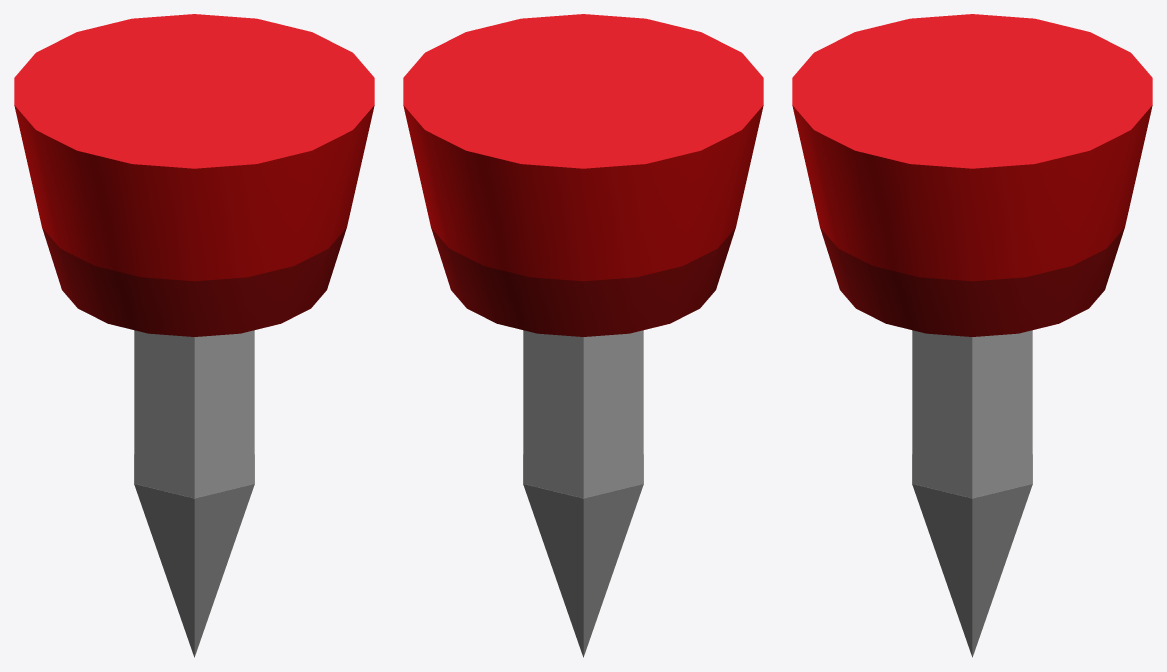
Rendered from tachinha.DAE.
The picture shows the model from 3 angles, left to right: view 1: azimuth 30°, elevation 25°; view 2: azimuth 150°, elevation 25°; view 3: azimuth 270°, elevation 25°; orthographic projection.
Visible parts, largest first — view 1: Cylinder01, Cone01; view 2: Cylinder01, Cone01; view 3: Cylinder01, Cone01.
Boxes of the visible parts, bbox=[...] form: Cylinder01: bbox=[14, 14, 374, 336]; Cone01: bbox=[134, 330, 254, 657]; Cylinder01: bbox=[403, 14, 763, 336]; Cone01: bbox=[523, 330, 643, 657]; Cylinder01: bbox=[792, 14, 1152, 336]; Cone01: bbox=[912, 330, 1032, 657].
Bounding box in the file's own units: 17.57 × 17.3 × 30.
